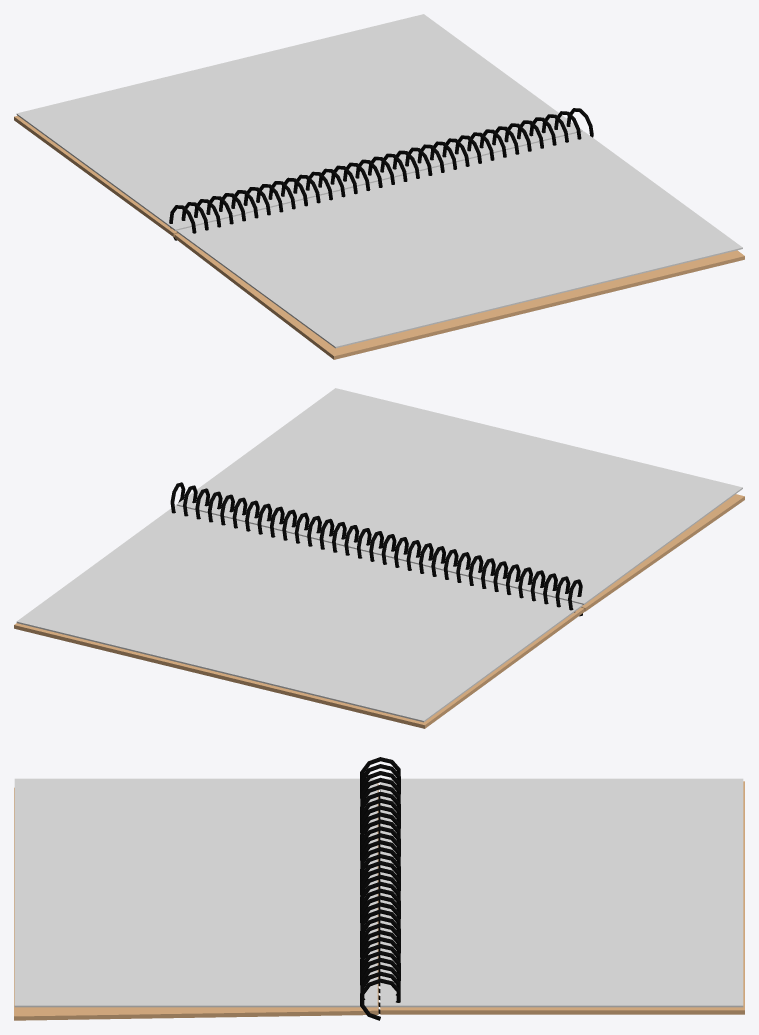
Rendered from Book-closed.fbx.
3 renders of one model, top to bottom at view 1: azimuth 30°, elevation 25°; view 2: azimuth 150°, elevation 25°; view 3: azimuth 270°, elevation 25°, orthographic. The views are drawn at different scales.
Visible parts, largest first — view 1: Cube.006; view 2: Cube.006; view 3: Cube.006.
Part boxes in pixels (box(x1,y1,x2,y2)): Cube.006: box(14, 14, 744, 359); Cube.006: box(14, 388, 744, 728); Cube.006: box(14, 757, 744, 1020).
Size of the model in its own units: 301 by 24.11 by 403.
